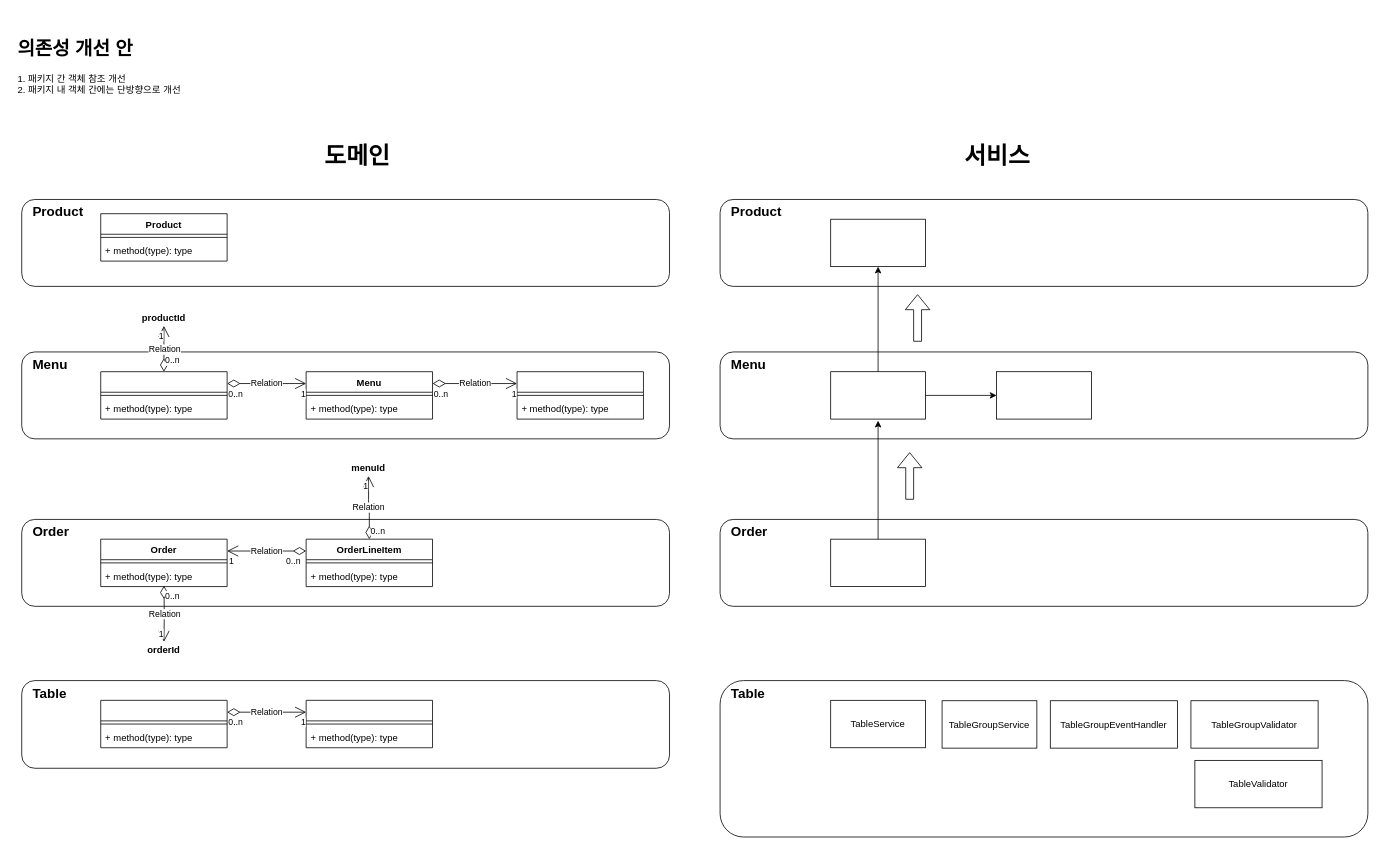
This 1382x851 diagram has some shape labels left out. Here are the shapes that lost their labels. From the top down, the box of each, then its label:
(830, 218, 925, 267): ProductService
(100, 371, 227, 419): MenuProduct
(516, 371, 643, 419): MenuGroup
(830, 371, 925, 419): MenuService
(996, 371, 1091, 419): MenuGroupService
(830, 538, 925, 587): OrderService
(100, 700, 227, 748): OrderTable
(305, 700, 433, 748): TableGroup
